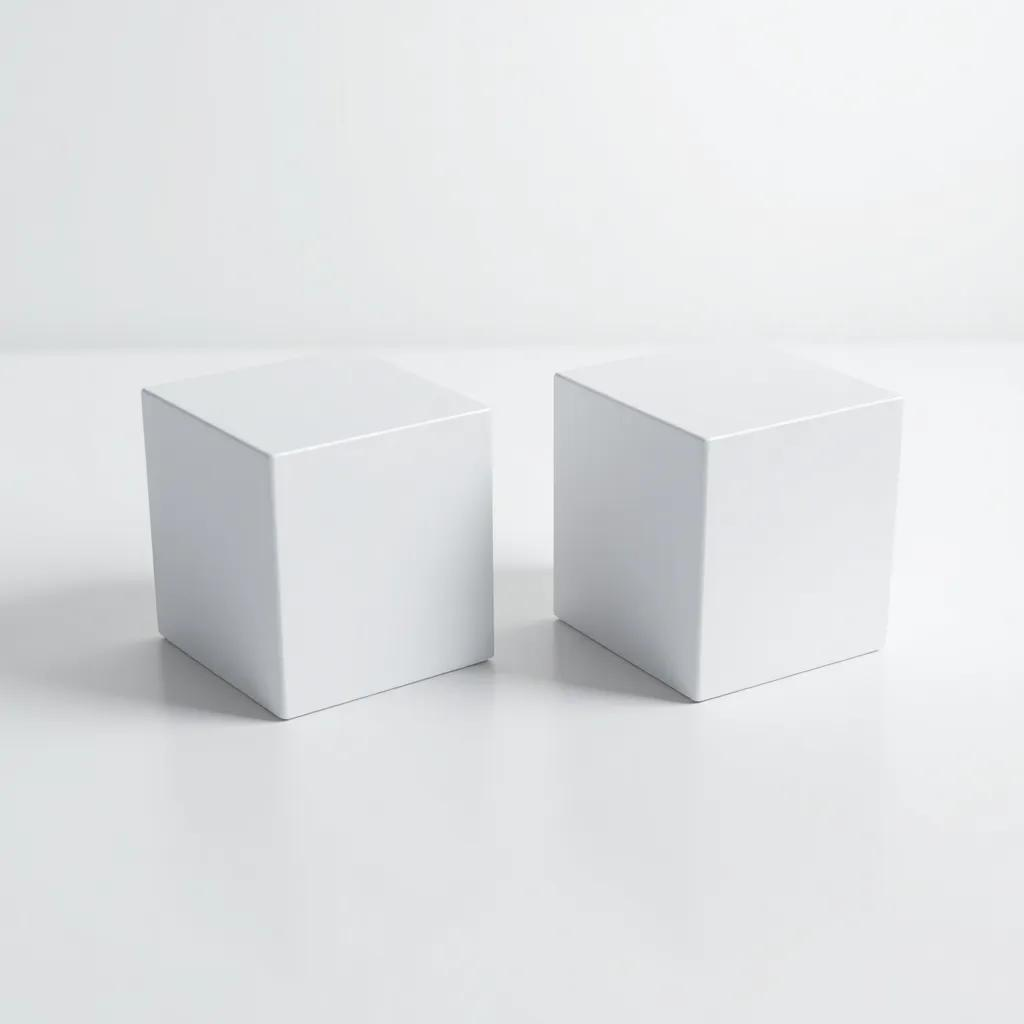cube: (139, 347, 495, 720), (551, 337, 904, 702)
